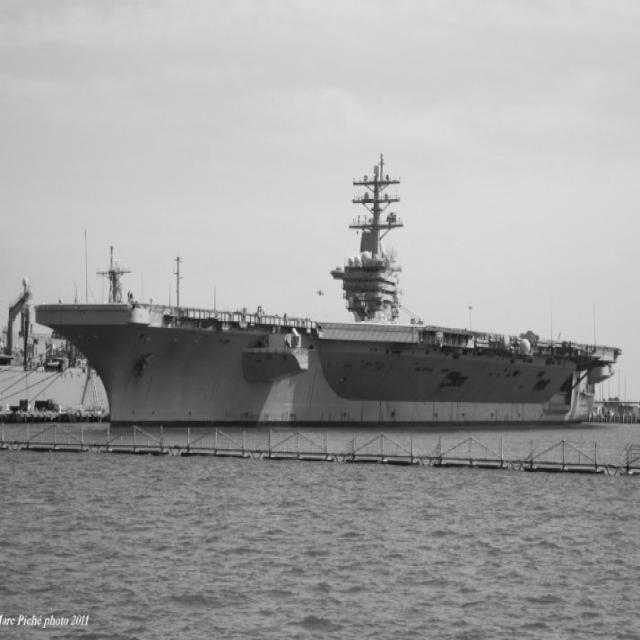Portanaves: (33, 152, 629, 434)
